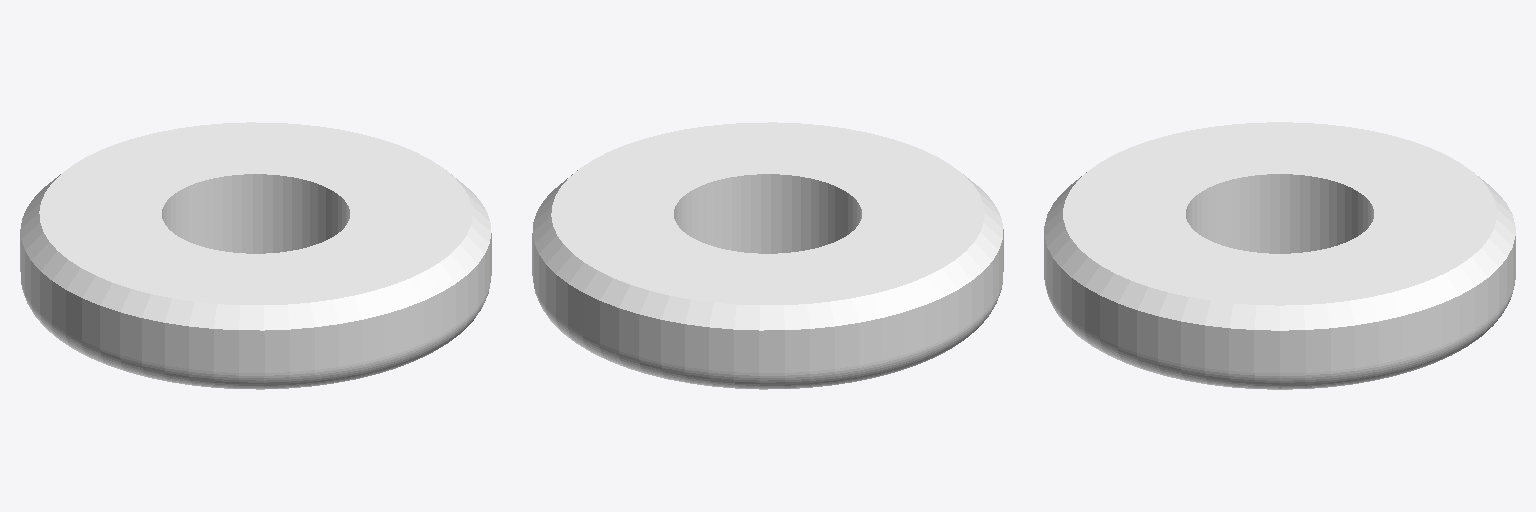
URDF robot description (TestDonutSmall):
<?xml version="1.0" ?>
<robot name="TestDonutSmall">
  <link name="TestDonutSmall">
    <contact>
      <lateral_friction value="1.0"/>
      <rolling_friction value="1.0"/>
      <inertia_scaling value="3.0"/>
      <contact_cdm value="0.0"/>
      <contact_erp value="1.0"/>
    </contact>
    <inertial>
      <origin rpy="0 0 0" xyz="0 0 0"/>
      <mass value="1.0"/>
      <inertia ixx="0" ixy="0" ixz="0" iyy="0" iyz="0" izz="0"/>
    </inertial>
    <visual>
      <origin rpy="0 0 0" xyz="0 0 0"/>
      <geometry>
        <mesh filename="TestDonutSmall_vis.obj" scale="1.0 1.0 1.0"/>
      </geometry>
      <material name="blockmat">
        <color rgba="1.0 1.0 1.0 1.0"/>
      </material>
    </visual>
    <collision>
      <origin rpy="0 0 0" xyz="0 0 0"/>
      <geometry>
        <mesh filename="TestDonutSmall_col.obj" scale="1.0 1.0 1.0"/>
      </geometry>
    </collision>
  </link>
</robot>

--- Facts derived from the render (not from the file) ---
3 views of the same robot in one strip: view 1: azimuth 30°, elevation 25°; view 2: azimuth 150°, elevation 25°; view 3: azimuth 270°, elevation 25° (orthographic).
Robot: TestDonutSmall — 1 links, 0 joints (none); root link TestDonutSmall; default pose: every joint at zero.
Visible links, largest first — view 1: TestDonutSmall; view 2: TestDonutSmall; view 3: TestDonutSmall.
Link boxes in pixels (x1,y1,x2,y2): TestDonutSmall: (20,122,491,389); TestDonutSmall: (532,122,1003,389); TestDonutSmall: (1044,122,1515,389).
Bounding box of the posed robot: 0.05 × 0.0499 × 0.01 m (x, y, z).
Meshes: 1 distinct files referenced, 1 mesh visuals loaded (1 OBJ).